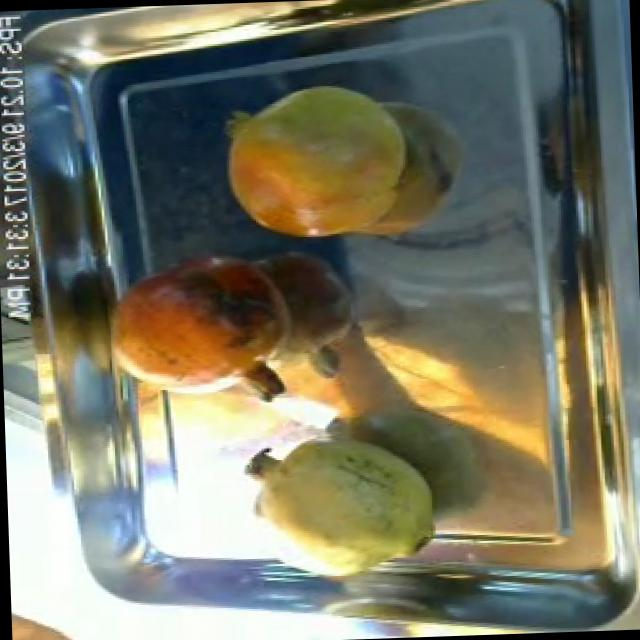fruit: (210, 72, 422, 252), (230, 420, 448, 585), (94, 240, 305, 406), (10, 595, 118, 640)
